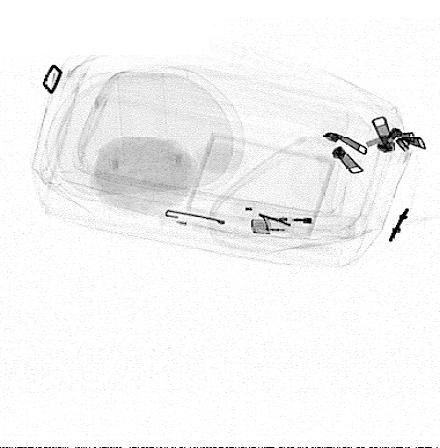Lighter: (247, 213, 358, 238)
